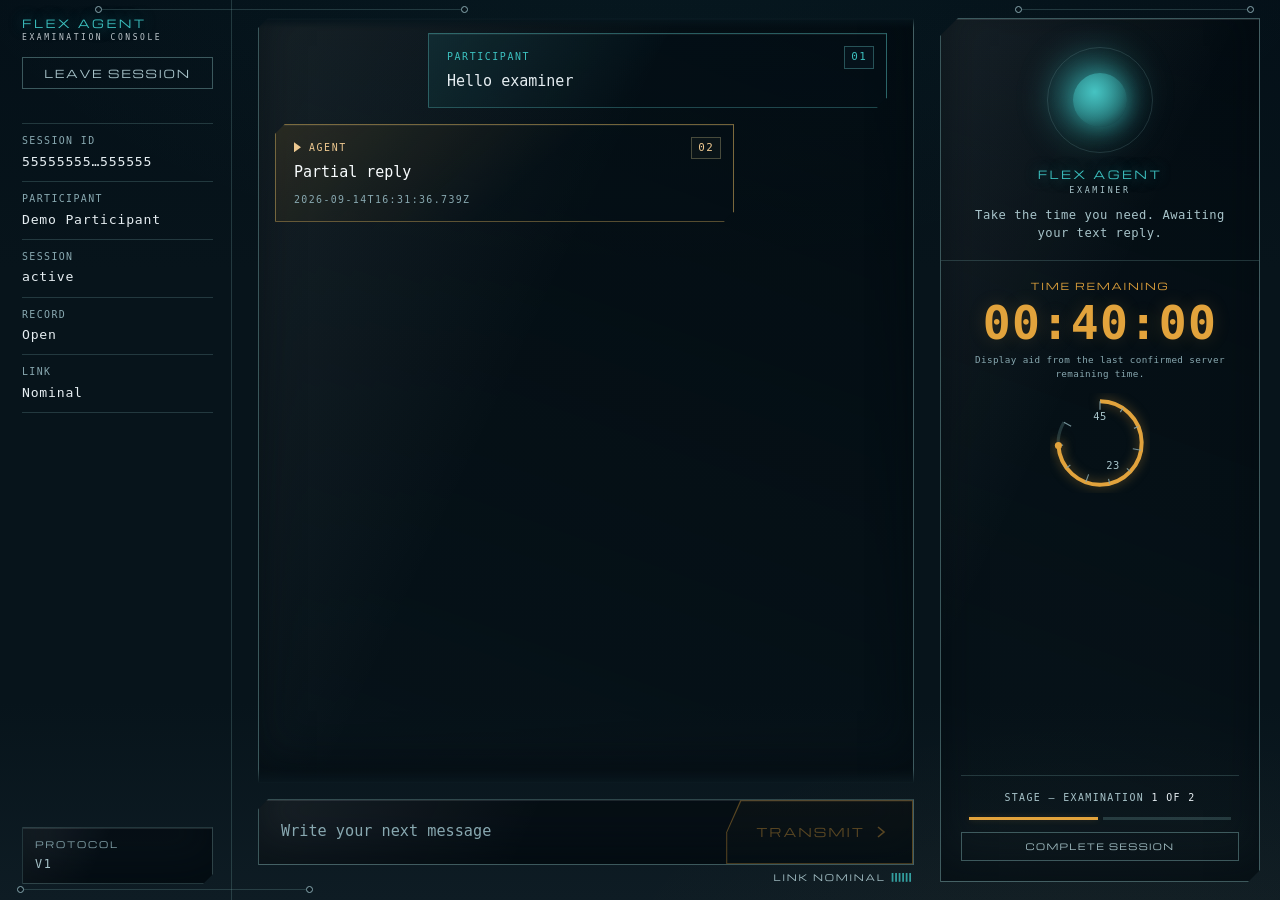
Test: hosted Session pages › restores an in-progress Agent turn from snapshot and completes it through SSE
The image size is (1280, 900).
Expected: the text "Considering your reply…" is shown, top-left (961, 207), bottom-right (1239, 242)
Expected: the button "Transmit" is disabled, top-left (726, 800), bottom-right (913, 864)
In the text box named "Compose reply": (493, 832) top-left (259, 800), bottom-right (726, 864), type "Follow up"
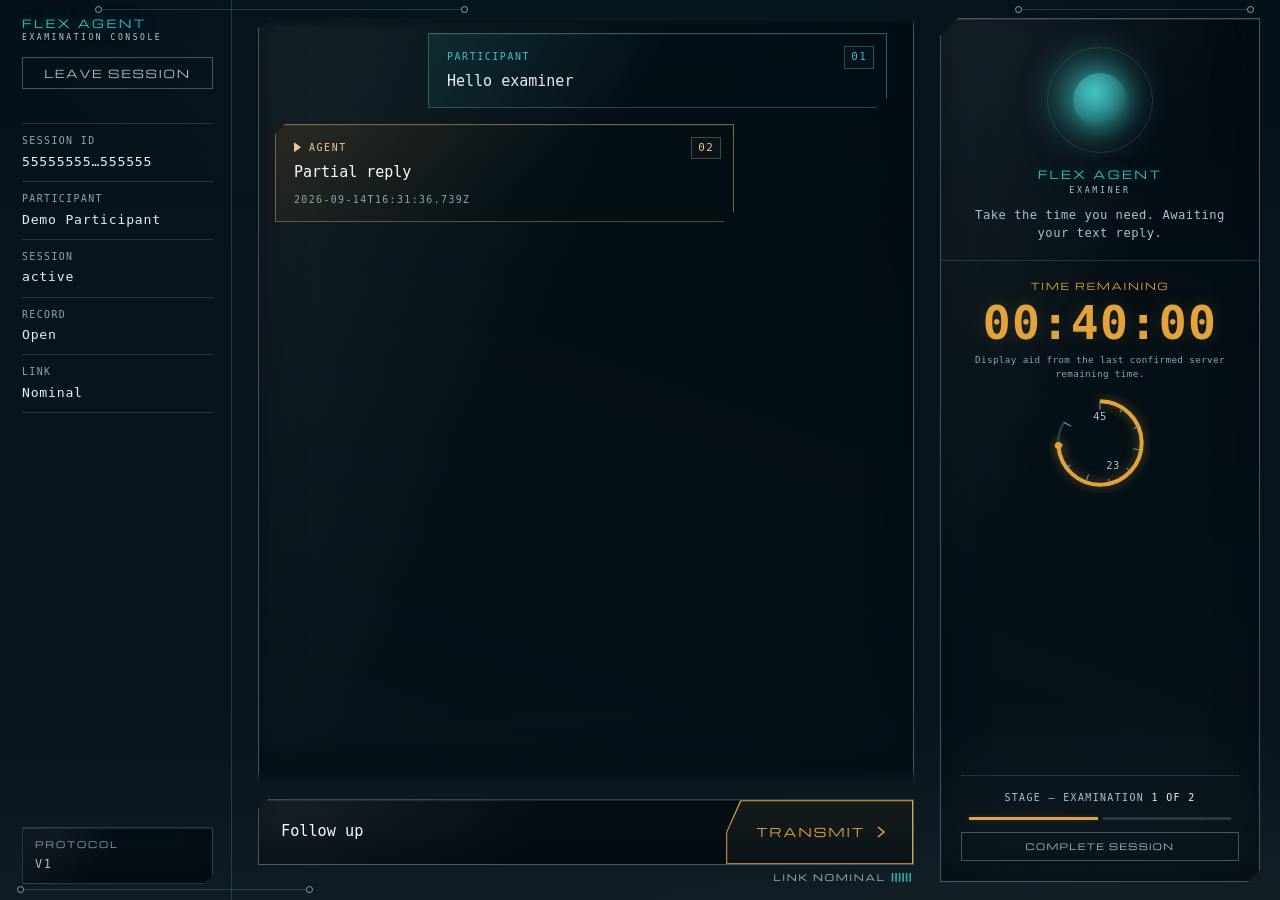
Expected: the button "Transmit" is enabled, top-left (726, 800), bottom-right (913, 864)
